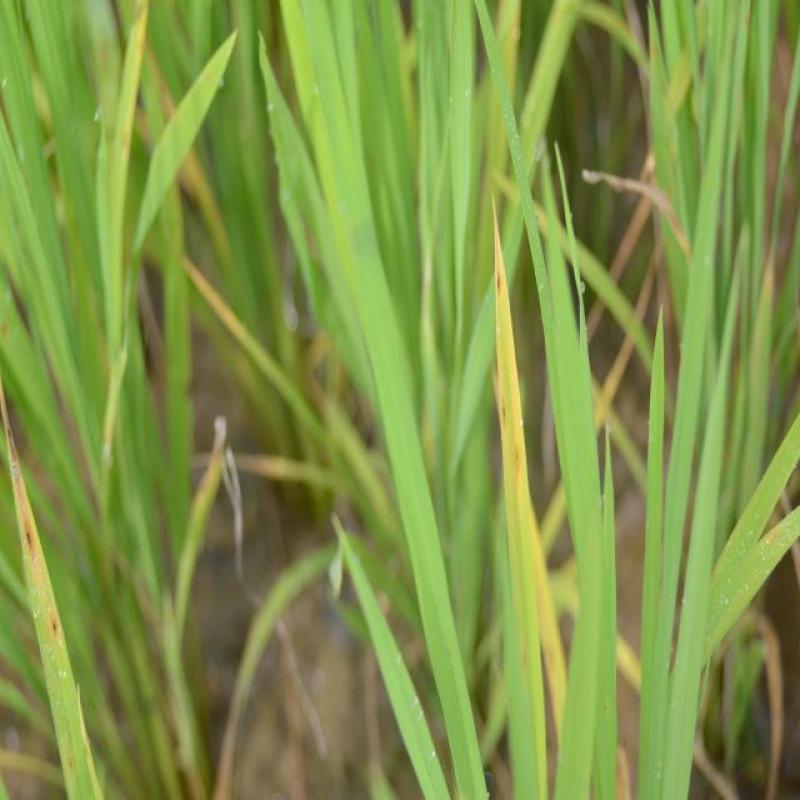Rice Tungro: (479, 219, 591, 800)
